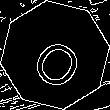O_NE: (22, 22, 88, 88)
